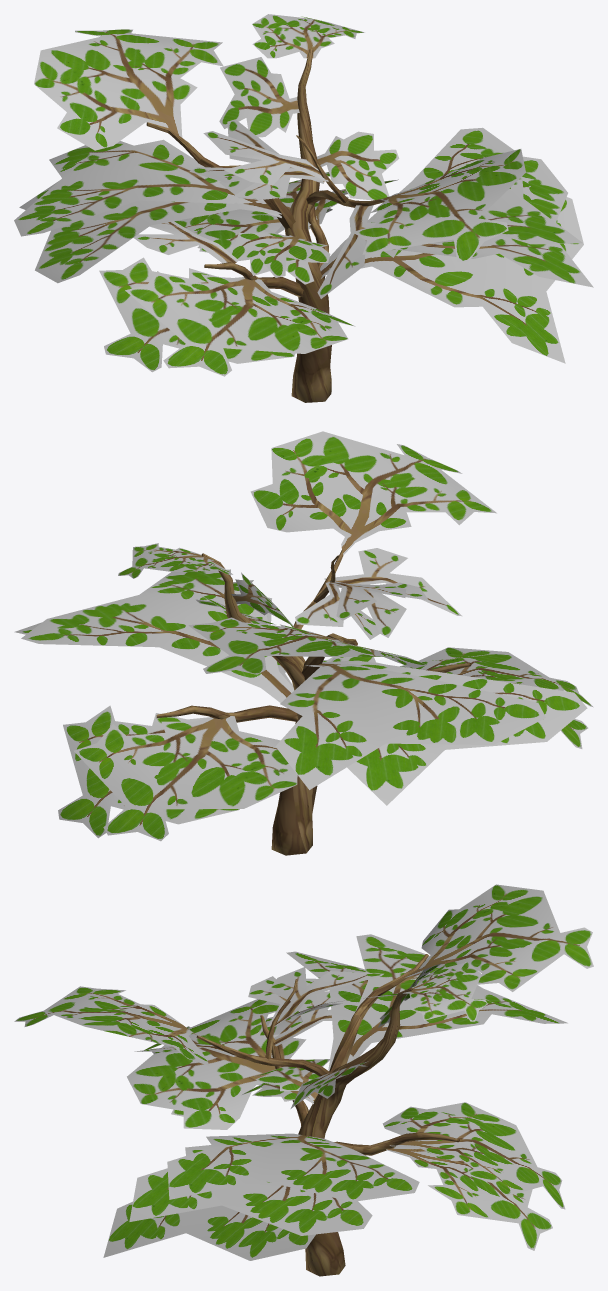
The model's file is LOD_albero.fbx.
The picture shows the model from 3 angles, top to bottom: view 1: azimuth 30°, elevation 25°; view 2: azimuth 150°, elevation 25°; view 3: azimuth 270°, elevation 25°; orthographic projection. The views are drawn at different scales.
Visible parts, largest first — view 1: albero2; view 2: albero2; view 3: albero2.
Boxes of the visible parts, bbox=[...] form: albero2: bbox=[14, 14, 593, 402]; albero2: bbox=[14, 431, 593, 855]; albero2: bbox=[14, 884, 593, 1276].
Bounding box in the file's own units: 7.42 × 4.31 × 7.25.
2 materials, 2 textured.
